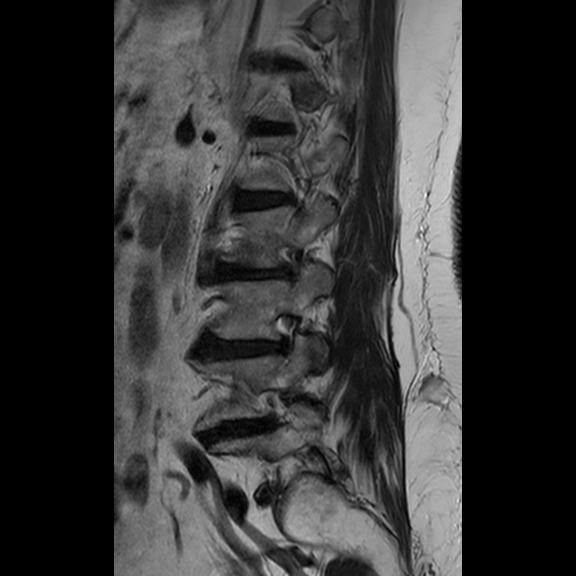LFS1: (258, 304, 307, 369)
